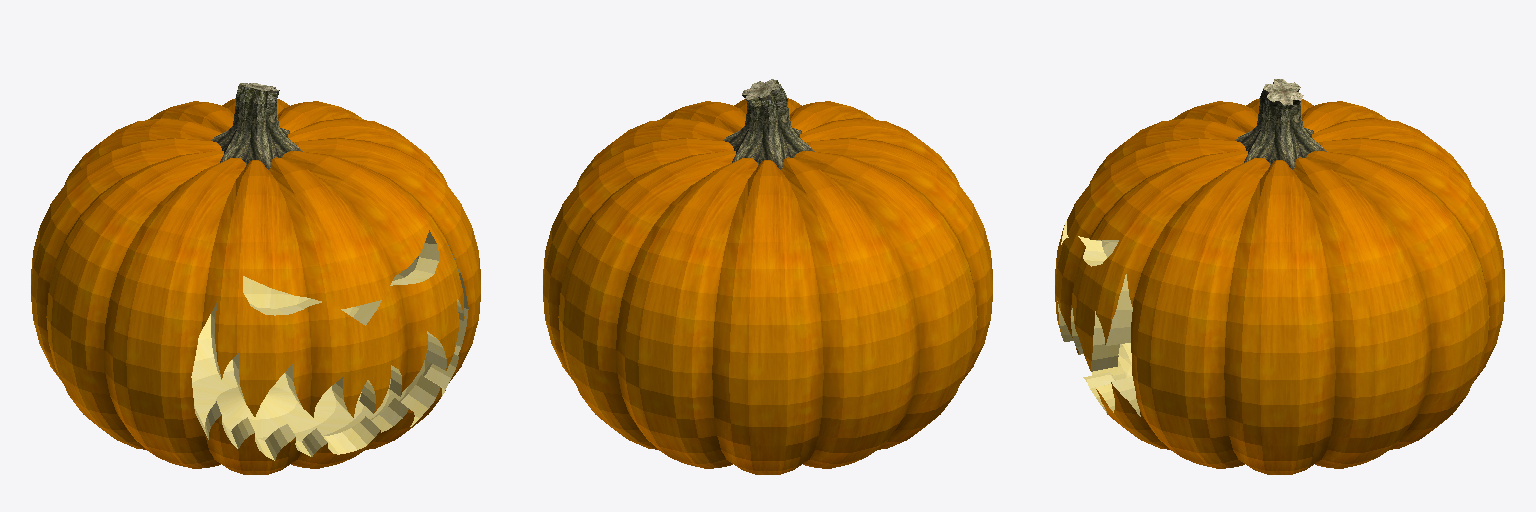
The picture shows the model from 3 angles: view 1: azimuth 30°, elevation 25°; view 2: azimuth 150°, elevation 25°; view 3: azimuth 270°, elevation 25°; orthographic projection.
Visible parts, largest first — view 1: PumpkinA_001; view 2: PumpkinA_001; view 3: PumpkinA_001.
Boxes of the visible parts, x1=… form: PumpkinA_001: x1=31, y1=83, x2=480, y2=474; PumpkinA_001: x1=543, y1=79, x2=992, y2=474; PumpkinA_001: x1=1055, y1=79, x2=1504, y2=474.
Bounding box in the file's own units: 105 × 88.4 × 105.
Materials: 4 (4 with a texture image).